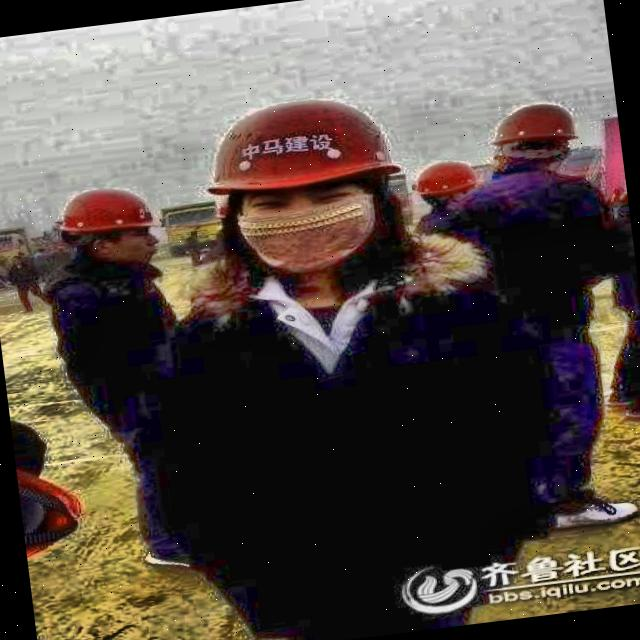helmet: (172, 81, 434, 292), (48, 181, 171, 278), (482, 96, 590, 182), (408, 158, 486, 214)
